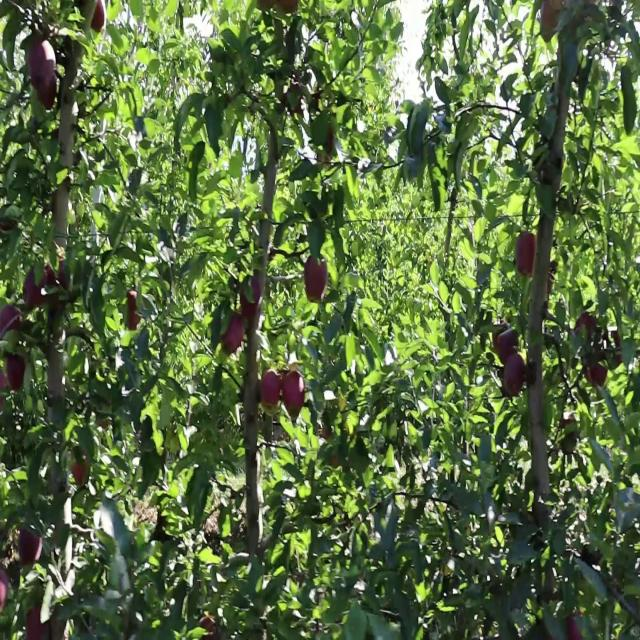apple: (28, 35, 56, 84), (44, 255, 69, 306), (304, 255, 329, 304), (284, 369, 307, 418), (220, 312, 245, 356), (504, 355, 527, 400), (492, 327, 519, 364), (240, 277, 263, 320), (36, 71, 59, 112), (540, 1, 563, 41), (516, 234, 537, 277), (24, 270, 46, 311), (260, 369, 281, 411), (20, 533, 43, 569), (28, 604, 48, 639), (8, 355, 27, 391), (284, 78, 303, 114), (576, 312, 598, 340), (4, 305, 24, 334), (128, 291, 141, 334), (588, 362, 608, 389), (92, 7, 107, 36), (200, 618, 219, 639), (72, 462, 87, 485), (568, 618, 583, 638), (4, 575, 8, 603), (5, 378, 7, 388)
